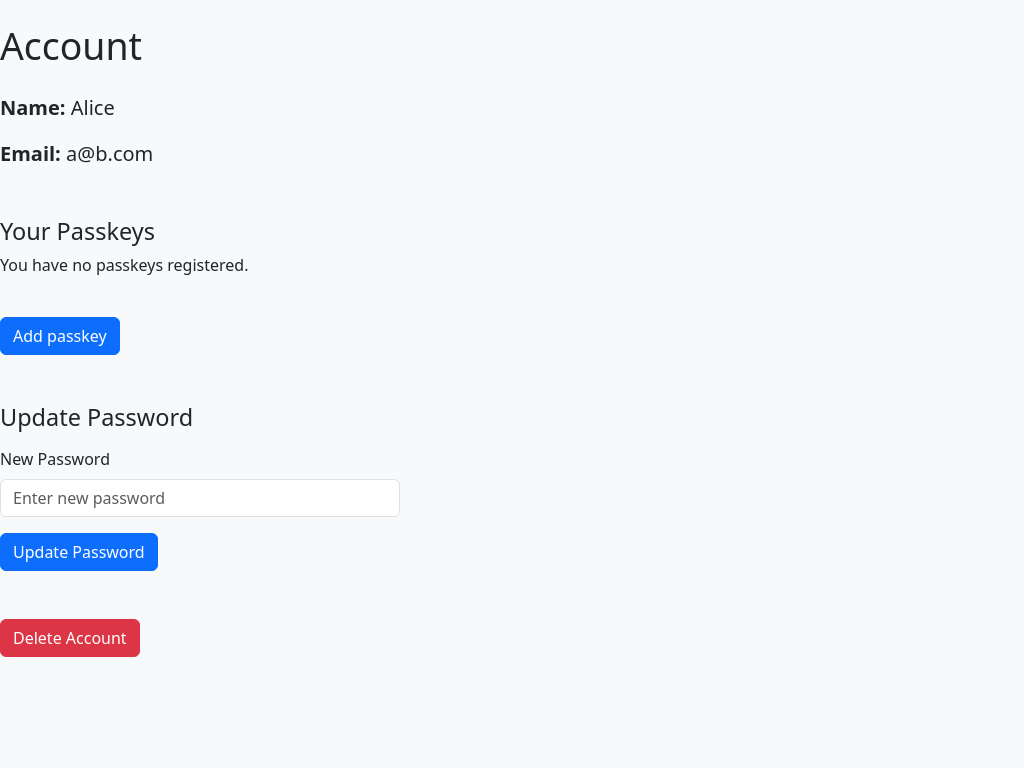
Test: AccountPage — add passkey › shows an info modal on successful passkey registration
Click the button "Add passkey" at (60, 336), box [0, 317, 120, 355]
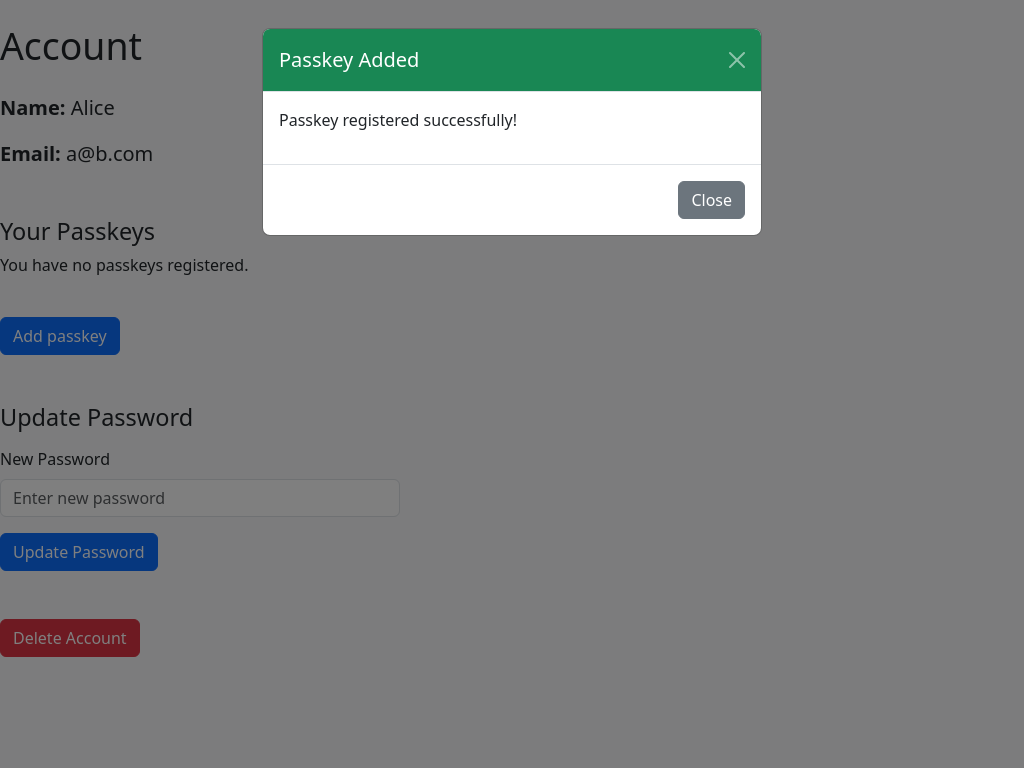
Check: the heading "Passkey Added" is shown, box [279, 45, 419, 75]
